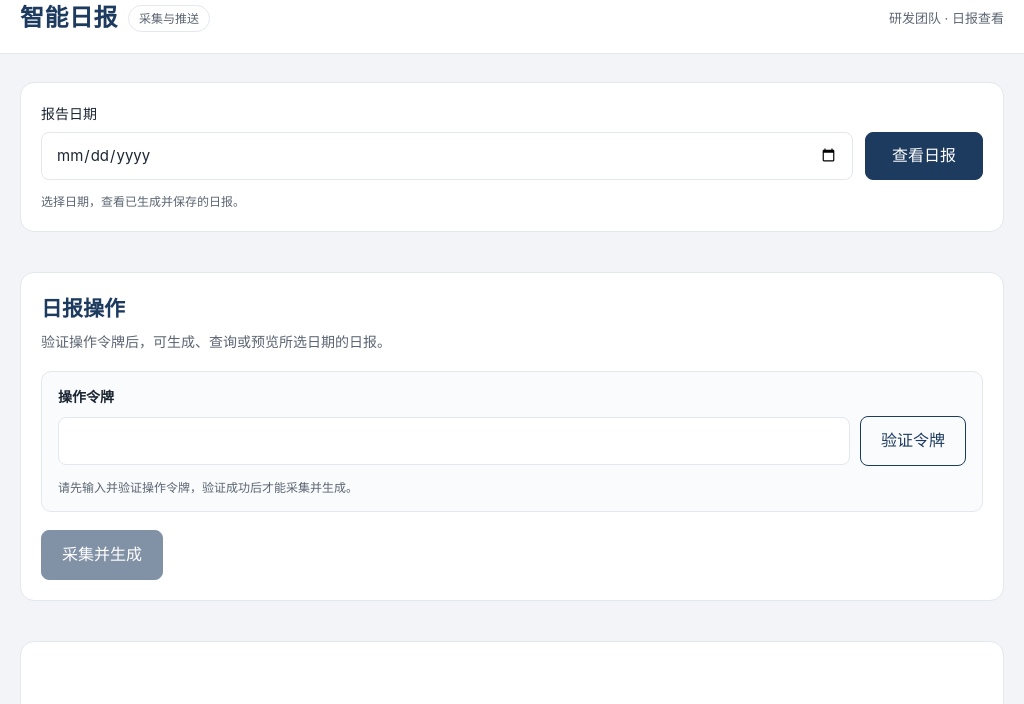
Test: polling_network_failure_can_be_queried_manually_without_resubmission
Type "2026-09-25" into the date field labelled "报告日期" at (447, 156), box [41, 132, 853, 180]
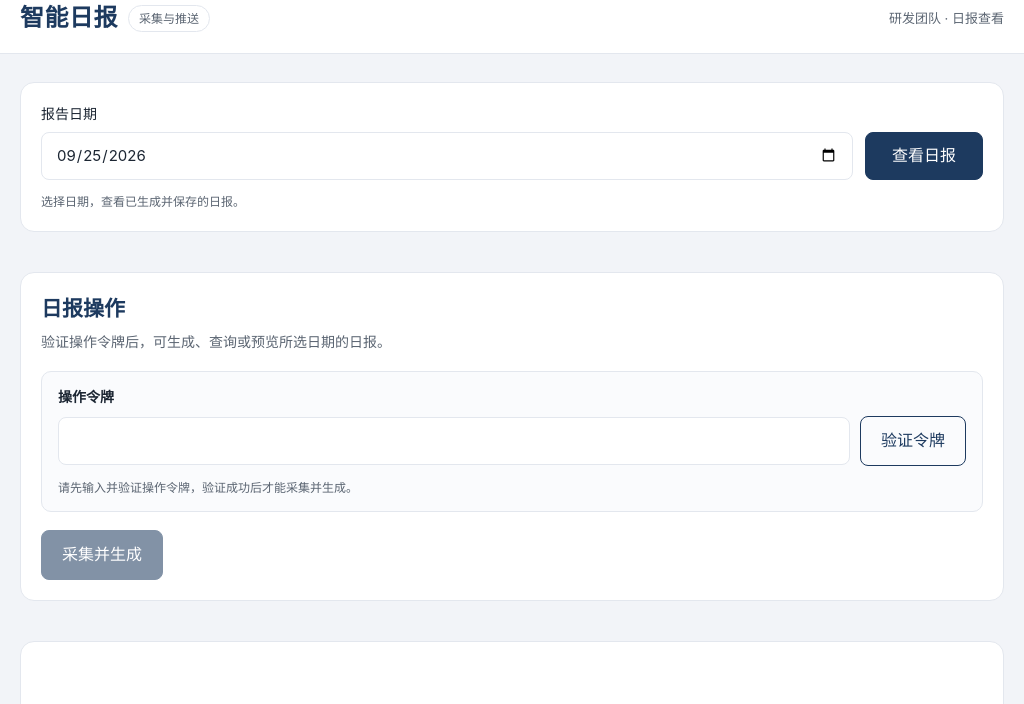
Type "private-token" into the password field labelled "操作令牌" at (454, 441), box [58, 417, 850, 465]
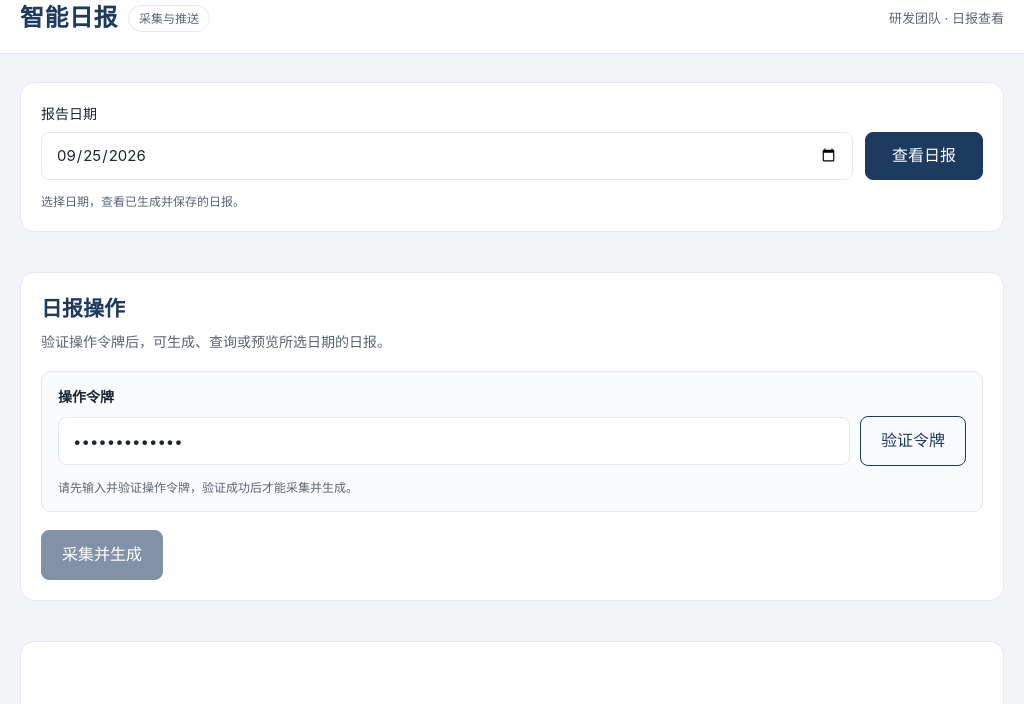
Click the button "验证令牌" at (913, 441), box [860, 416, 966, 466]
Wait 2000 ms
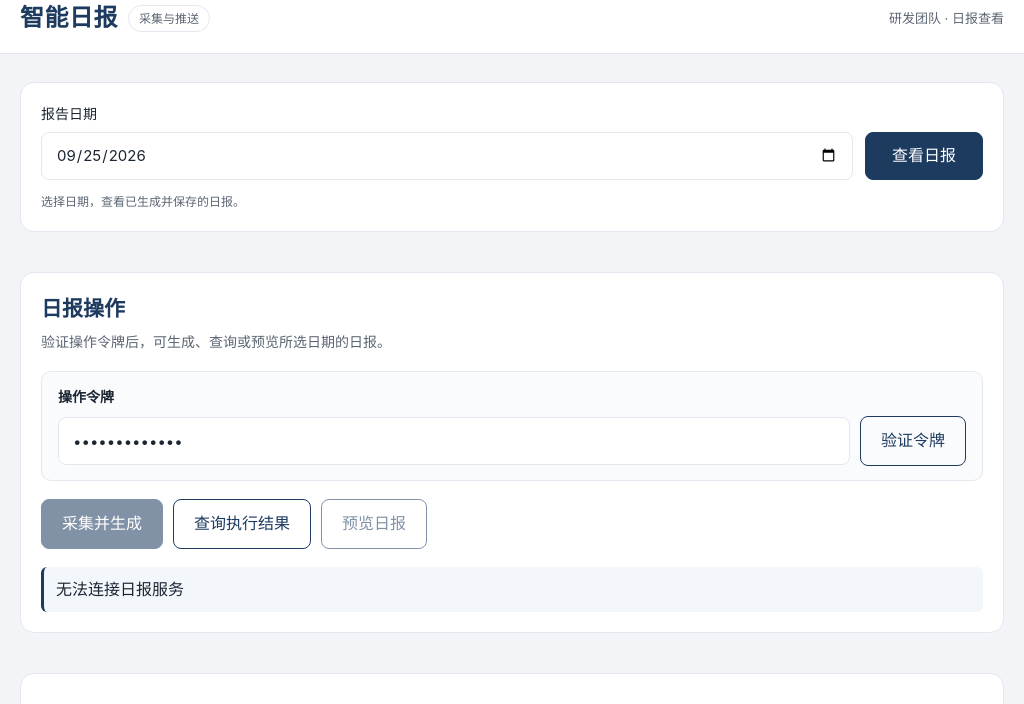
expect the text "无法连接日报服务" is shown: met, box [41, 566, 983, 612]
Click the button "查询执行结果" at (242, 524), box [173, 499, 311, 548]
(page scrolled)
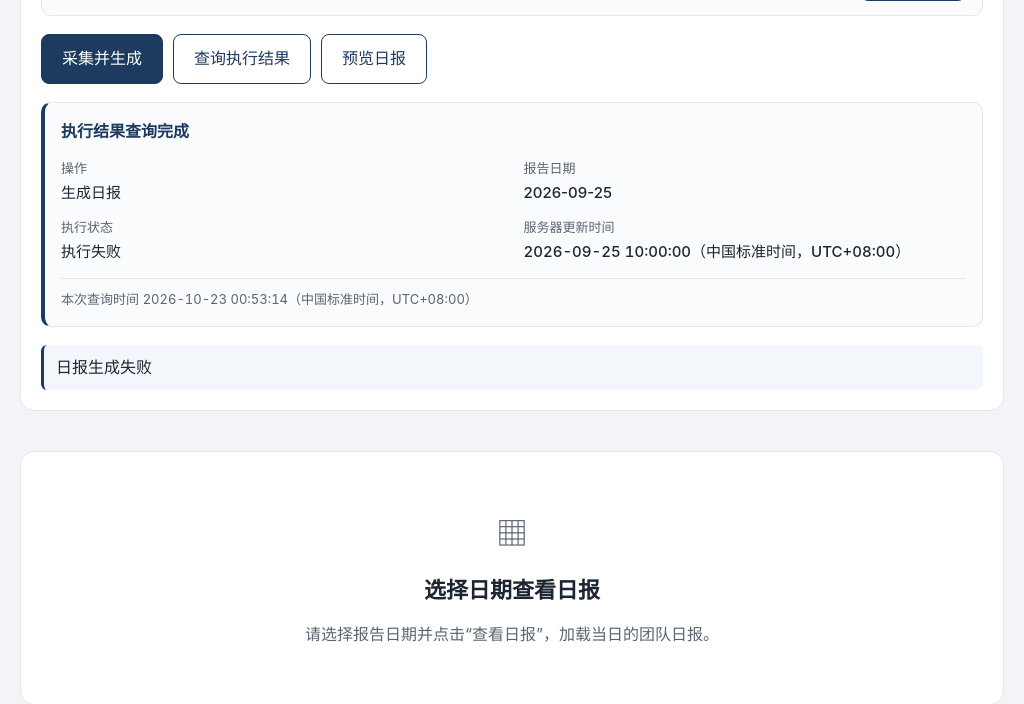
expect the text "日报生成失败" is shown: met, box [41, 344, 983, 390]
